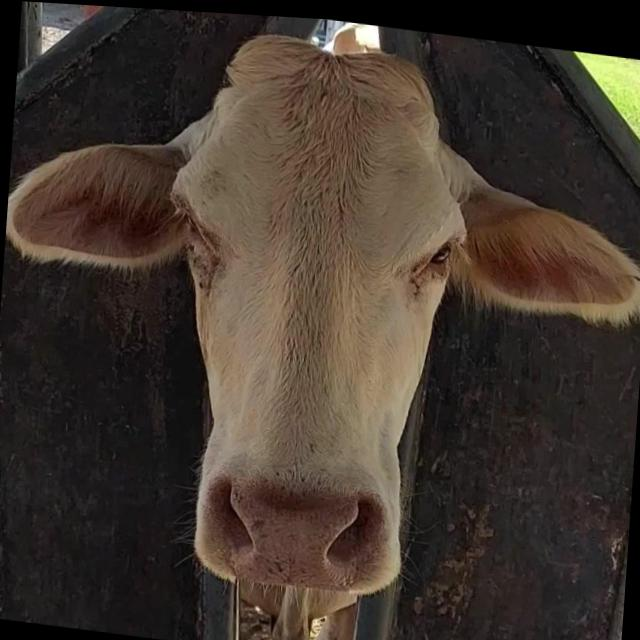cowFace: (152, 22, 476, 602)
